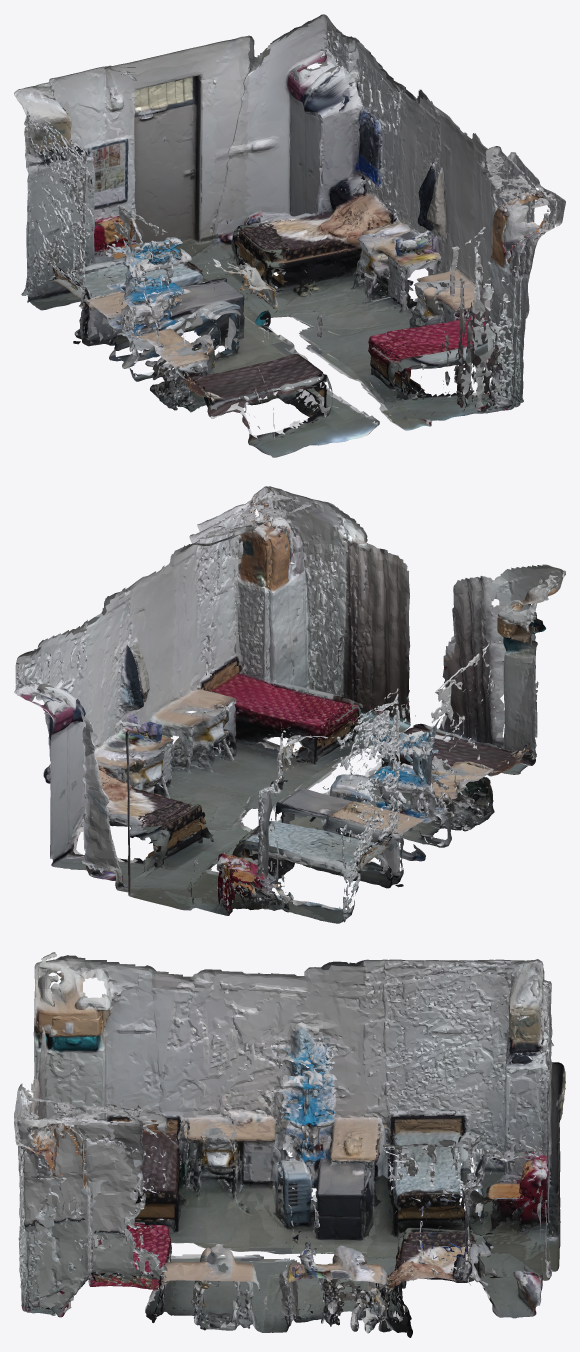
Rendered from room_photographic_model.glb.
3 views of the same model, one above another, from view 1: azimuth 30°, elevation 25°; view 2: azimuth 150°, elevation 25°; view 3: azimuth 270°, elevation 25° (orthographic). The views are drawn at different scales.
Visible parts, largest first — view 1: room_photographic_model_canonical.obj; view 2: room_photographic_model_canonical.obj; view 3: room_photographic_model_canonical.obj.
Part boxes in pixels (left/top/right/bottom): room_photographic_model_canonical.obj: left=14, top=14, right=565, bottom=457; room_photographic_model_canonical.obj: left=14, top=486, right=565, bottom=923; room_photographic_model_canonical.obj: left=14, top=952, right=565, bottom=1337.
Size of the model in its own units: 5.47 by 3.32 by 7.35.
1 material, 1 textured.
